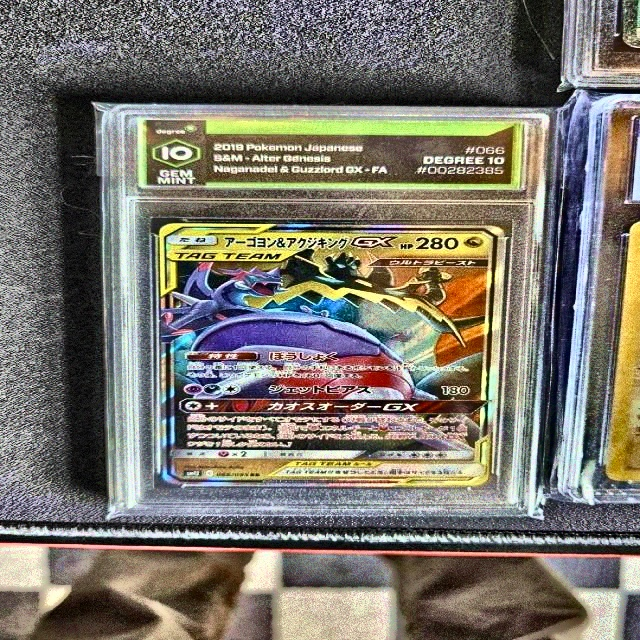card: (155, 222, 508, 487)
